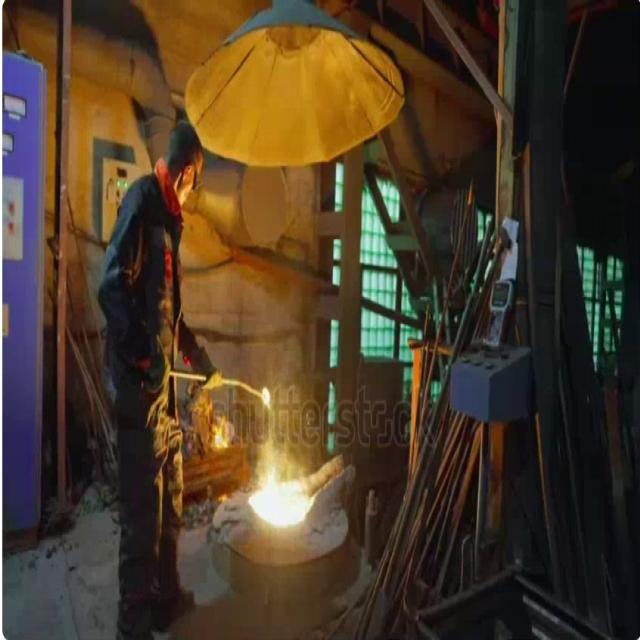gloved: (189, 346, 223, 392)
